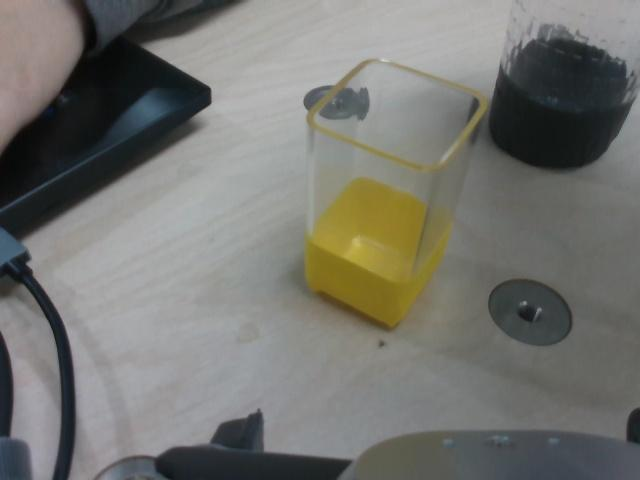black_cup: (488, 37, 636, 171)
yellow_cup: (304, 175, 453, 331)
